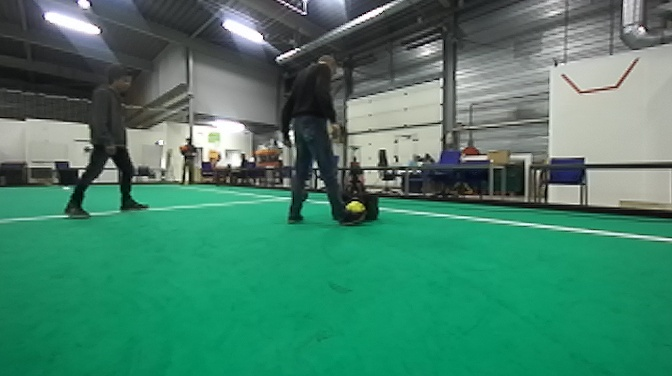ball: (341, 199, 365, 214)
human: (59, 66, 145, 222), (280, 50, 352, 226)
robot: (326, 143, 386, 225)
